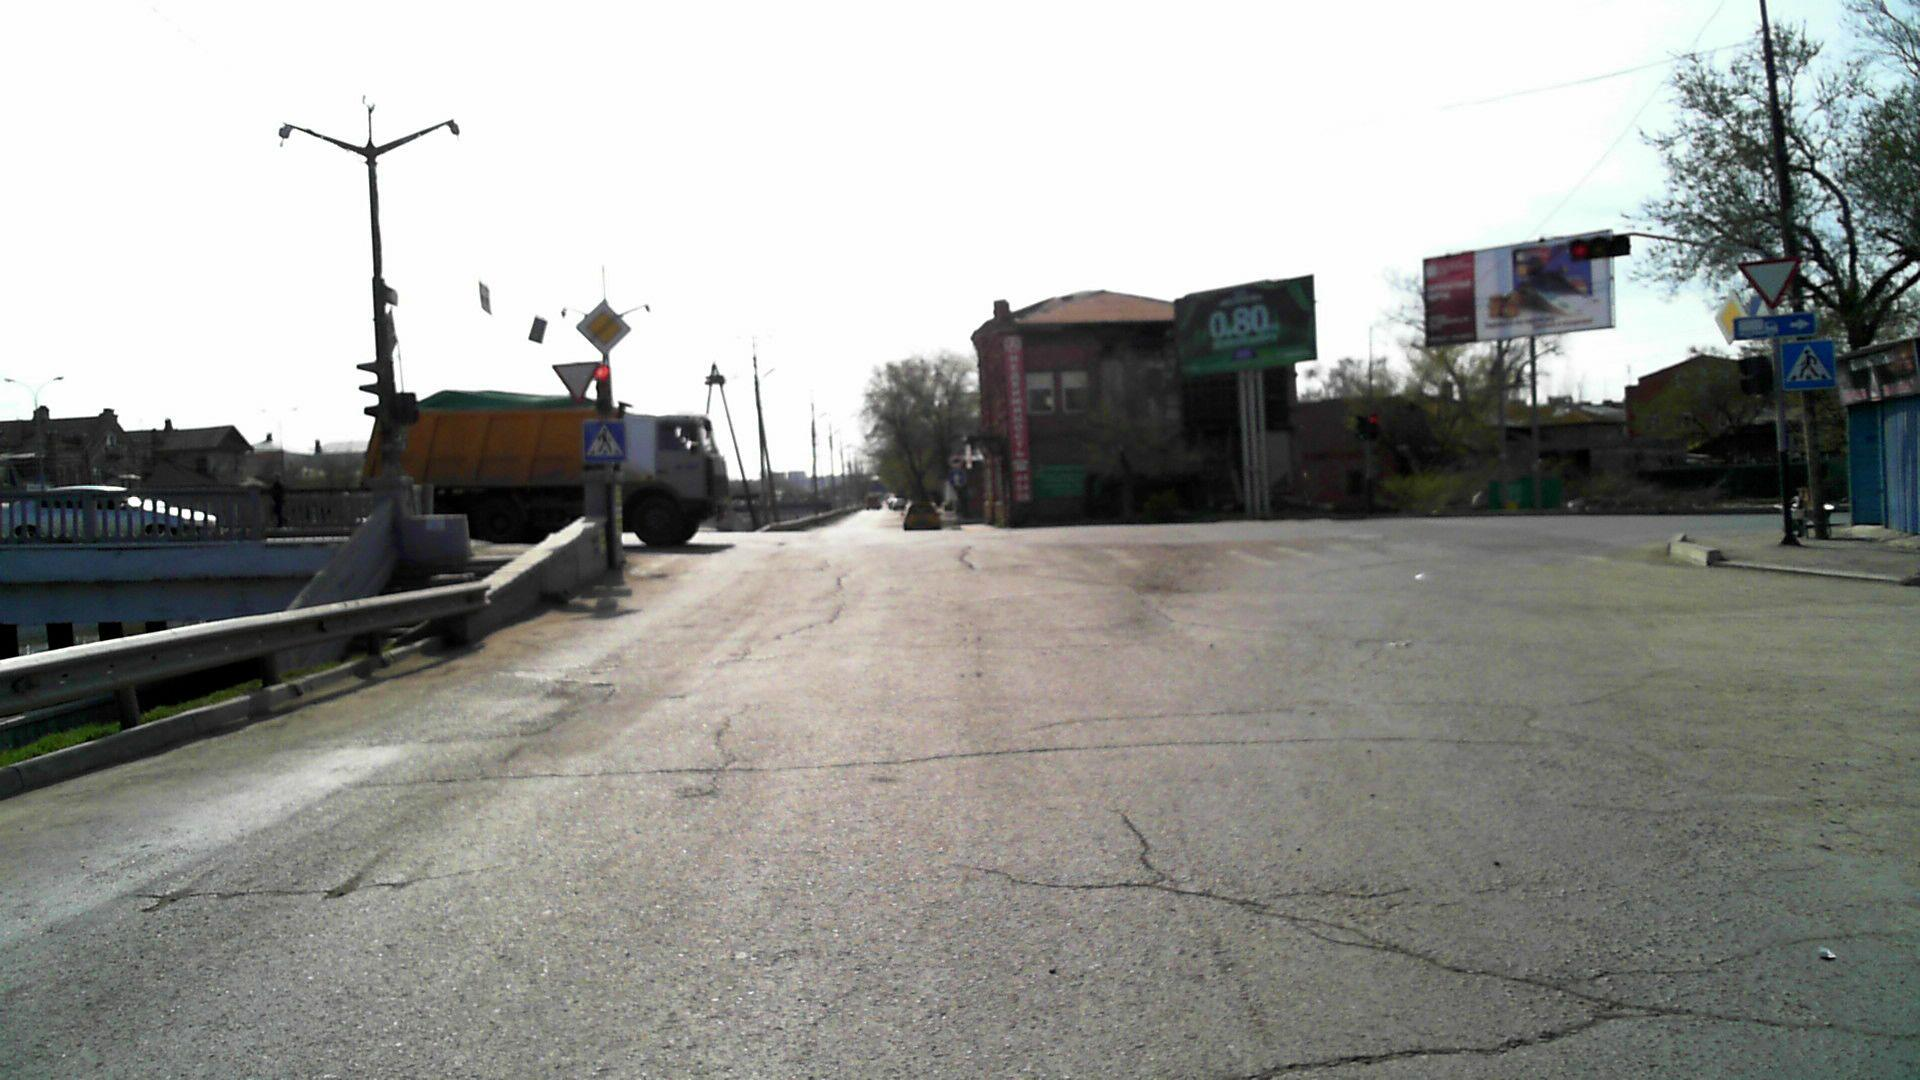2_2: (575, 301, 633, 353)
2_4: (1737, 256, 1800, 309), (549, 359, 601, 405)
3_4: (947, 452, 964, 469)
5_19_1: (1780, 339, 1837, 390)
5_19_2: (580, 421, 628, 467)
5_5: (951, 472, 967, 488)
6_15_2: (1734, 313, 1818, 338)
